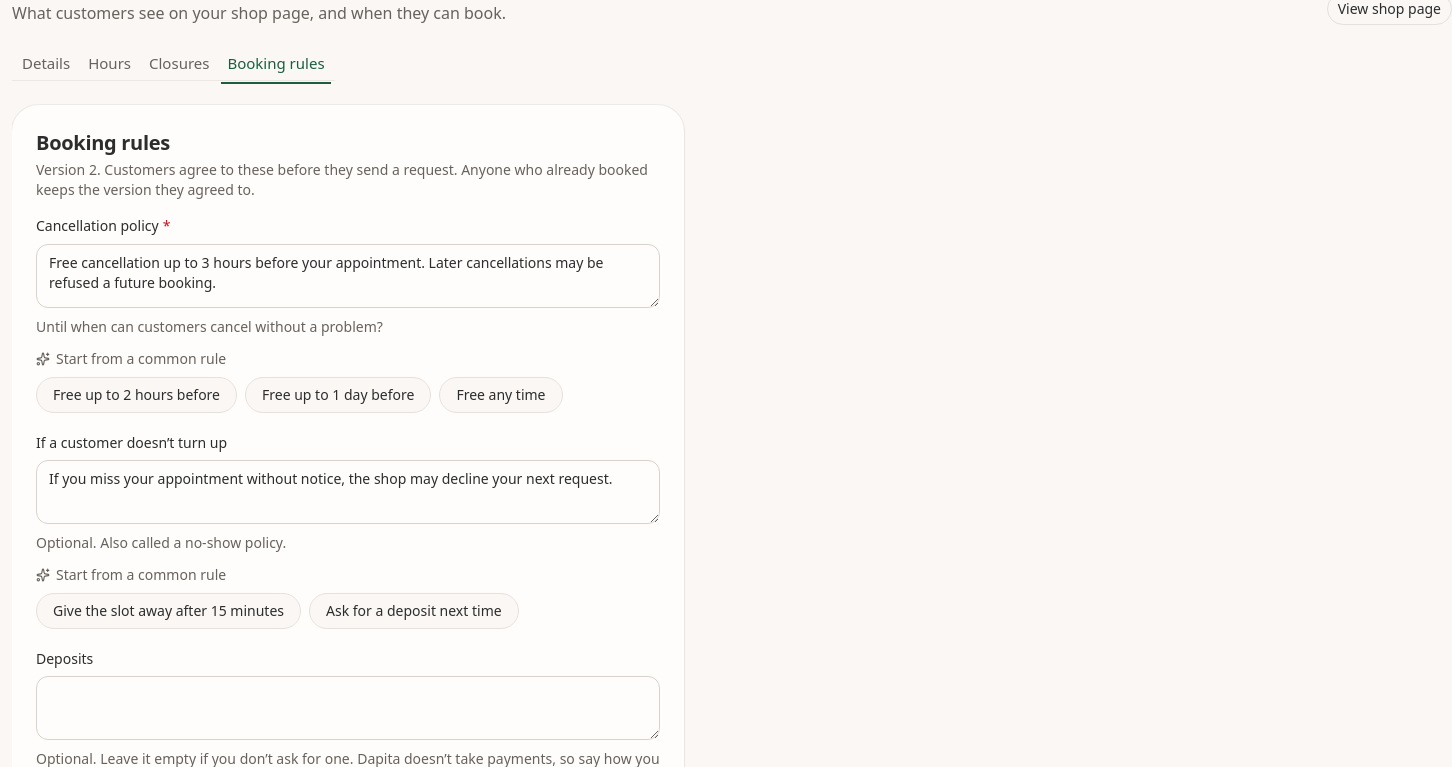
MerchantProfilePage › saves policies as a new version
The image size is (1452, 767).
Expected: the text "Version 2." is shown, [36,160,648,199]
Replace the text in the text box labelled "Cancellation policy *" with "Free cancellation up to 6 hours before your appointment." at (348, 276), box [36,244,660,308]
(page scrolled)
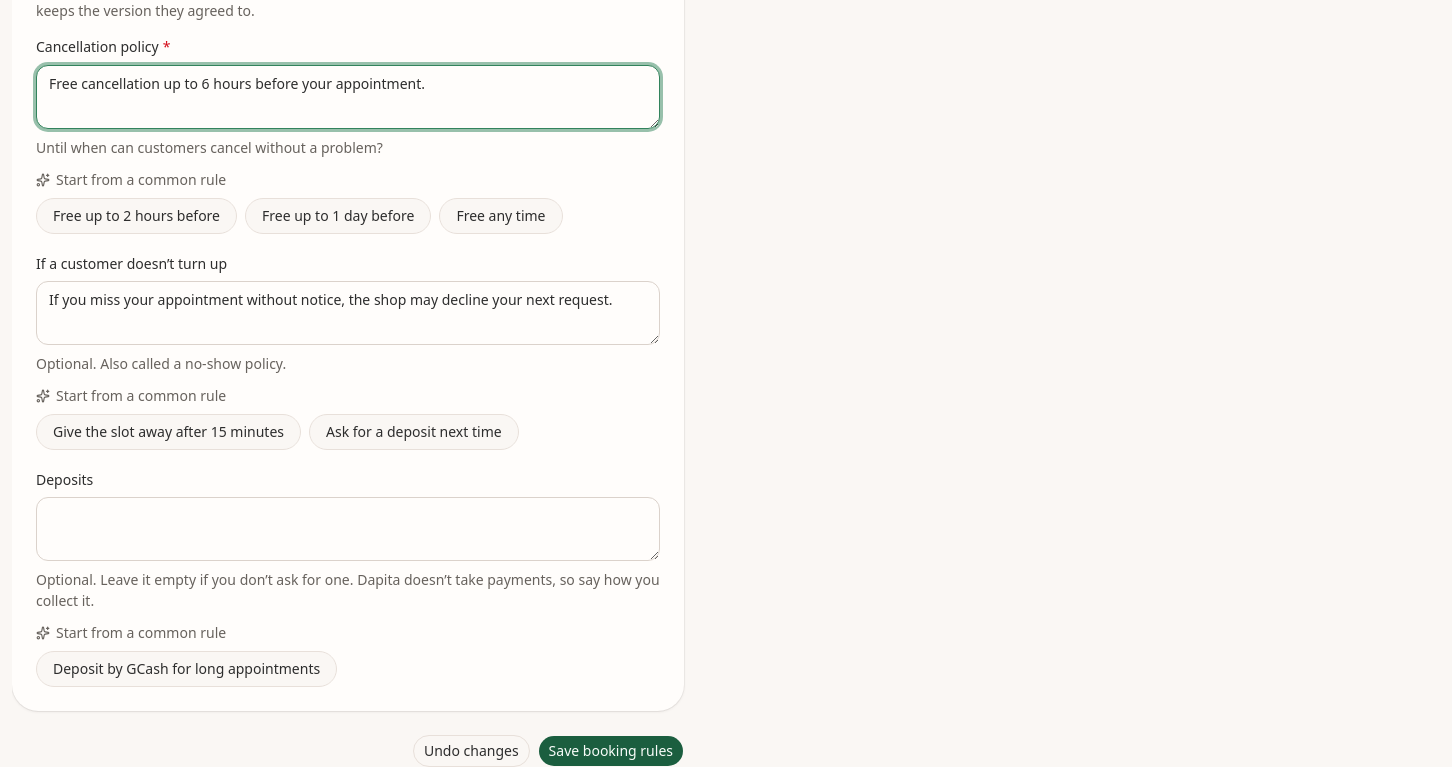
Click the button "Save booking rules".
click(611, 751)  # box [538,735,684,766]
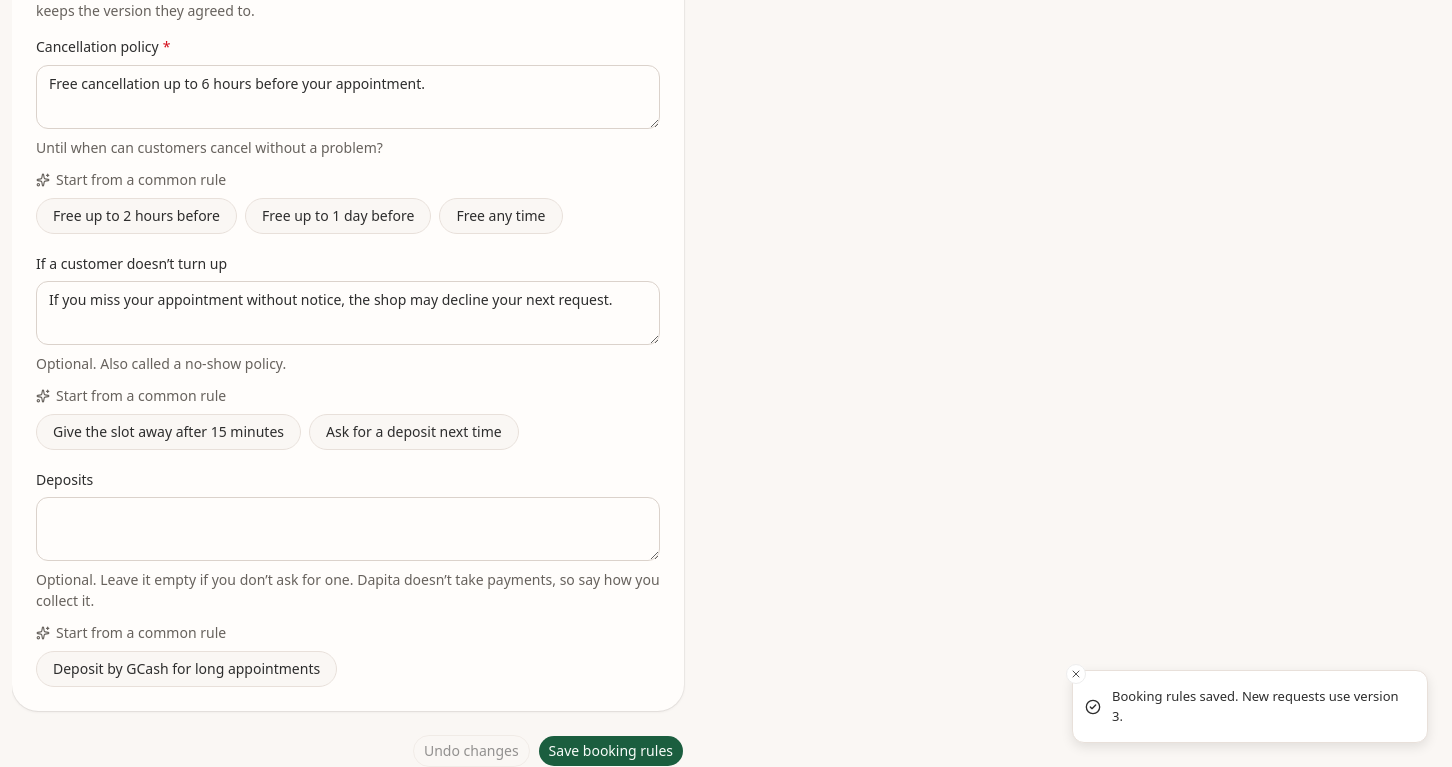
Now the text "Booking rules saved. New requests use version 3." is shown, box [1112,687,1411,726]
